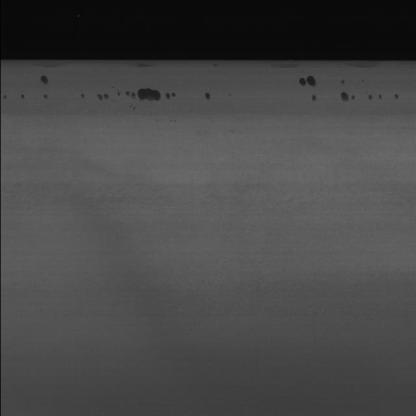oil_spot: (0, 86, 217, 105), (296, 69, 407, 104), (25, 73, 56, 87)
